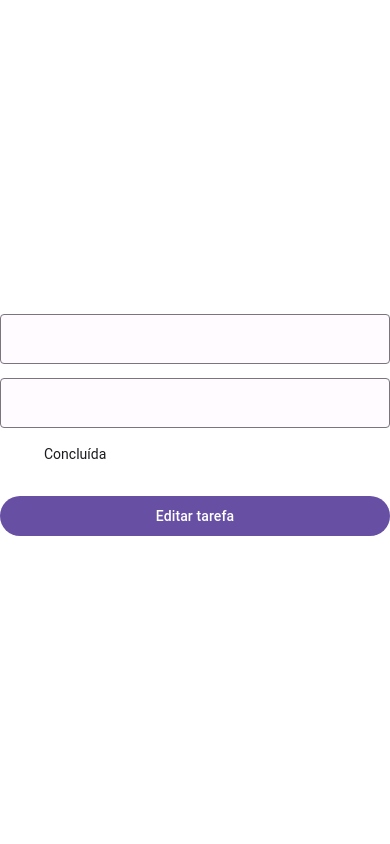
Container -> Task › should update data when form is valid
The image size is (390, 844).
Type "Título mock" into the field with test id "input-title" at x=195, y=340, box left=0, top=316, right=389, bottom=364
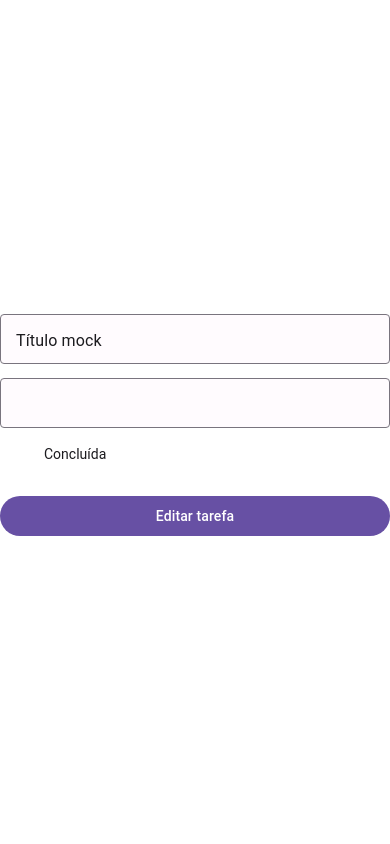
Type "descrição mock" into the field with test id "input-description" at x=195, y=404, box left=0, top=380, right=389, bottom=428
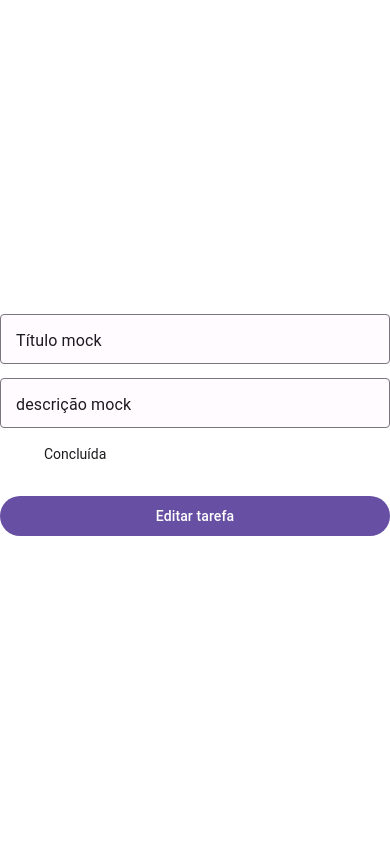
Click the button "Editar tarefa" at x=195, y=516, box left=0, top=496, right=389, bottom=536
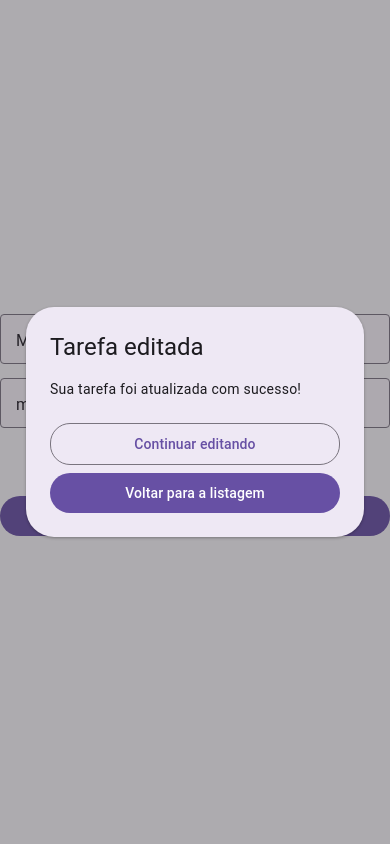
Expected: the heading "Tarefa editada" is shown, left=50, top=333, right=204, bottom=361
